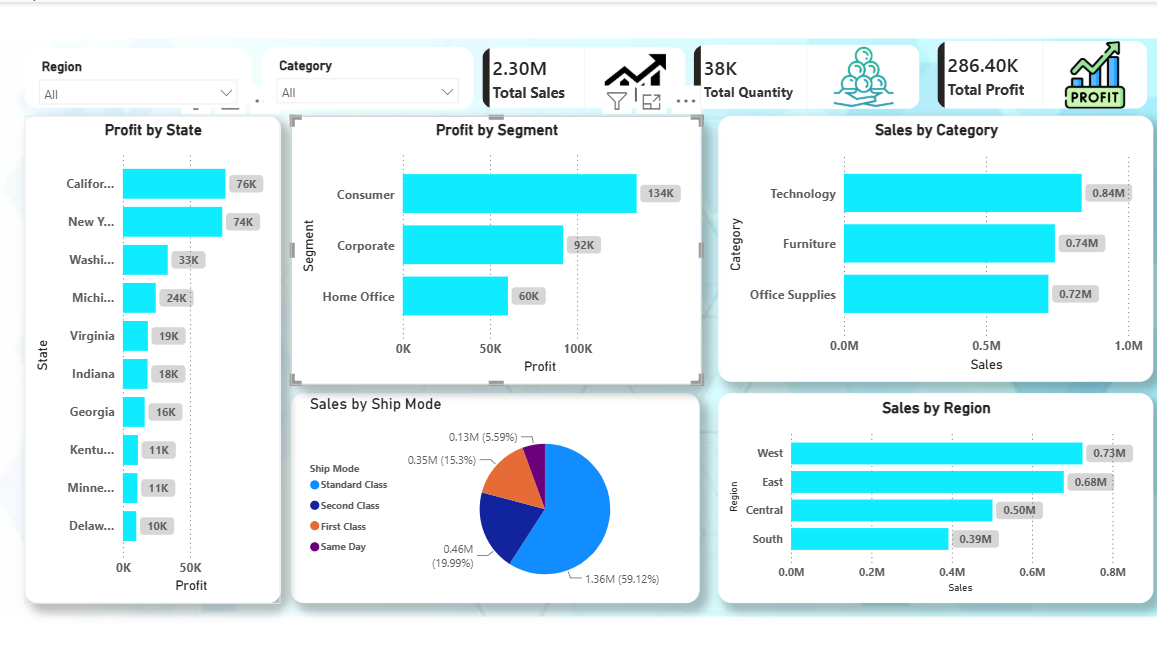

What the dashboard file says about the page in this screenshot:
{"tool":"powerbi","page":{"name":"Page 1","canvas":[1280,720],"ordinal":0},"visuals":[{"type":"cardVisual","fields":{"Data":["Sum(SampleSuperstore.Sales)"]},"box":[516,32.9,258,101.5],"z":0},{"type":"cardVisual","fields":{"Data":["Sum(SampleSuperstore.Quantity)"]},"box":[747.9,30.2,282.7,104.3],"z":1000},{"type":"cardVisual","fields":{"Data":["Sum(SampleSuperstore.Profit)"]},"box":[1015.4,26.1,264.8,108.4],"z":2000},{"type":"clusteredBarChart","fields":{"Y":["Sum(SampleSuperstore.Sales)"],"Category":["SampleSuperstore.Category"]},"box":[791.4,125.5,477.8,292],"z":3000},{"type":"clusteredBarChart","fields":{"Y":["Sum(SampleSuperstore.Profit)"],"Category":["SampleSuperstore.Segment"]},"box":[322.5,124.9,451.5,295],"z":4000},{"type":"clusteredBarChart","fields":{"Y":["Sum(SampleSuperstore.Sales)"],"Category":["SampleSuperstore.Region"]},"box":[791.8,429.5,477.5,230.5],"z":5000},{"type":"pieChart","fields":{"Category":["SampleSuperstore.Ship Mode"],"Y":["Sum(SampleSuperstore.Sales)"]},"box":[322.5,429.5,448.7,230.5],"z":6000},{"type":"clusteredBarChart","fields":{"Y":["Sum(SampleSuperstore.Profit)"],"Category":["SampleSuperstore.State"]},"box":[30.2,124.9,281.3,535.2],"z":7000},{"type":"slicer","fields":{"Values":["SampleSuperstore.Region"]},"box":[30.2,50.8,249.7,65.9],"z":8000},{"type":"slicer","fields":{"Values":["SampleSuperstore.Category"]},"box":[290.9,49.4,231.9,68.6],"z":9000}]}

Visuals, with their boxes in screenshot pixels (x1, y1, x2, y2), scaled from the page's 1280x720 canvas onto the 1157x650 screenshot:
cardVisual - Sum(SampleSuperstore.Sales): 466 30 700 121
cardVisual - Sum(SampleSuperstore.Quantity): 676 27 932 121
cardVisual - Sum(SampleSuperstore.Profit): 918 24 1156 121
clusteredBarChart - Sum(SampleSuperstore.Sales) x SampleSuperstore.Category: 715 113 1147 377
clusteredBarChart - Sum(SampleSuperstore.Profit) x SampleSuperstore.Segment: 292 113 700 379
clusteredBarChart - Sum(SampleSuperstore.Sales) x SampleSuperstore.Region: 716 388 1147 596
pieChart - SampleSuperstore.Ship Mode x Sum(SampleSuperstore.Sales): 292 388 697 596
clusteredBarChart - Sum(SampleSuperstore.Profit) x SampleSuperstore.State: 27 113 282 596
slicer - SampleSuperstore.Region: 27 46 253 105
slicer - SampleSuperstore.Category: 263 45 473 107
